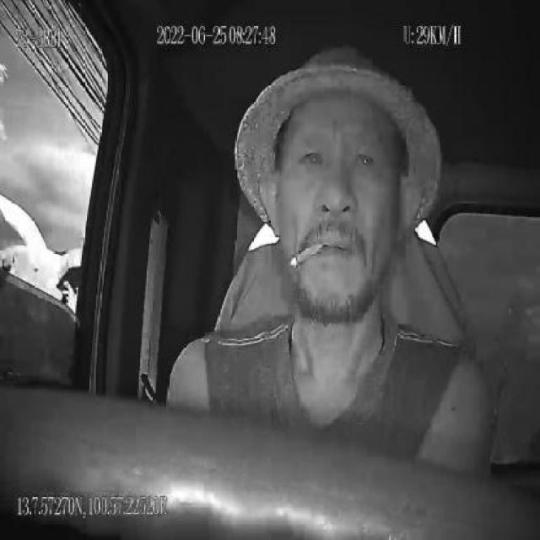smoking: (290, 238, 325, 270)
